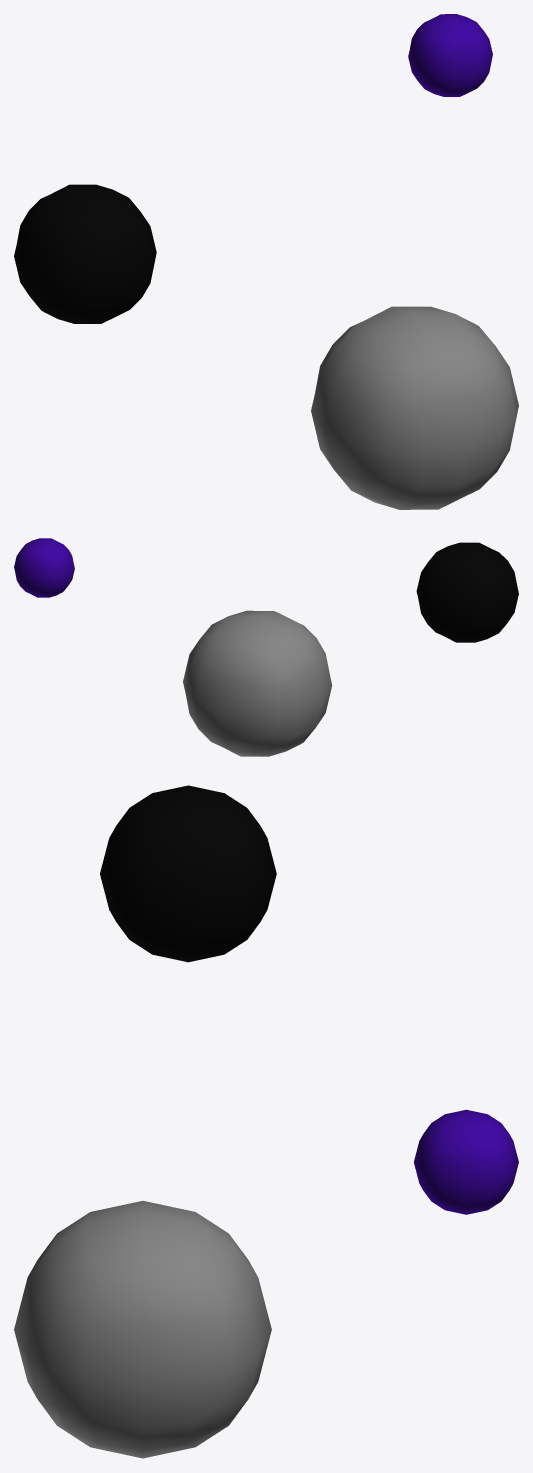
3 views of the same model, one above another, from view 1: azimuth 30°, elevation 25°; view 2: azimuth 150°, elevation 25°; view 3: azimuth 270°, elevation 25° (orthographic). The views are drawn at different scales.
Parts seen in each view (by area): view 1: quad_uv_sphere, quad_uv_sphere1, quad_uv_sphere2; view 2: quad_uv_sphere, quad_uv_sphere1, quad_uv_sphere2; view 3: quad_uv_sphere, quad_uv_sphere1, quad_uv_sphere2.
Boxes of the visible parts, bbox=[...] form: quad_uv_sphere: bbox=[311, 306, 518, 509]; quad_uv_sphere1: bbox=[14, 184, 156, 323]; quad_uv_sphere2: bbox=[408, 14, 492, 96]; quad_uv_sphere: bbox=[183, 610, 332, 756]; quad_uv_sphere1: bbox=[416, 542, 518, 642]; quad_uv_sphere2: bbox=[14, 538, 74, 597]; quad_uv_sphere: bbox=[14, 1200, 271, 1458]; quad_uv_sphere1: bbox=[100, 785, 276, 962]; quad_uv_sphere2: bbox=[414, 1109, 518, 1214].
Size of the model in its own units: 21.09 by 13.14 by 12.93.
